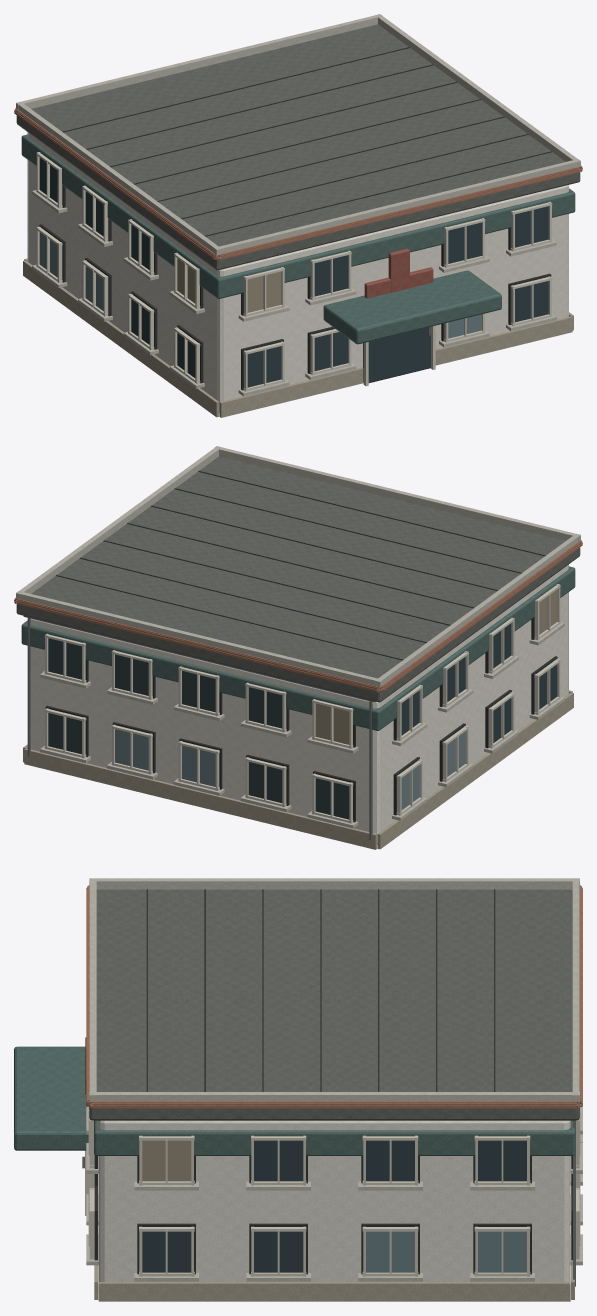
File: CIV_HEALTH_2x2_002.glb
The picture shows the model from 3 angles, top to bottom: view 1: azimuth 30°, elevation 25°; view 2: azimuth 150°, elevation 25°; view 3: azimuth 270°, elevation 25°; orthographic projection. The views are drawn at different scales.
Parts seen in each view (by area): view 1: CIV_HEALTH_2x2_002_Visual; view 2: CIV_HEALTH_2x2_002_Visual; view 3: CIV_HEALTH_2x2_002_Visual.
Part boxes in pixels (x1=…): CIV_HEALTH_2x2_002_Visual: x1=14, y1=14, x2=582, y2=417; CIV_HEALTH_2x2_002_Visual: x1=14, y1=446, x2=582, y2=849; CIV_HEALTH_2x2_002_Visual: x1=14, y1=878, x2=582, y2=1301.
Size of what is drawn, in the model's own units: 3.41 by 1.51 by 3.74.
Materials: 13 (7 with a texture image).
